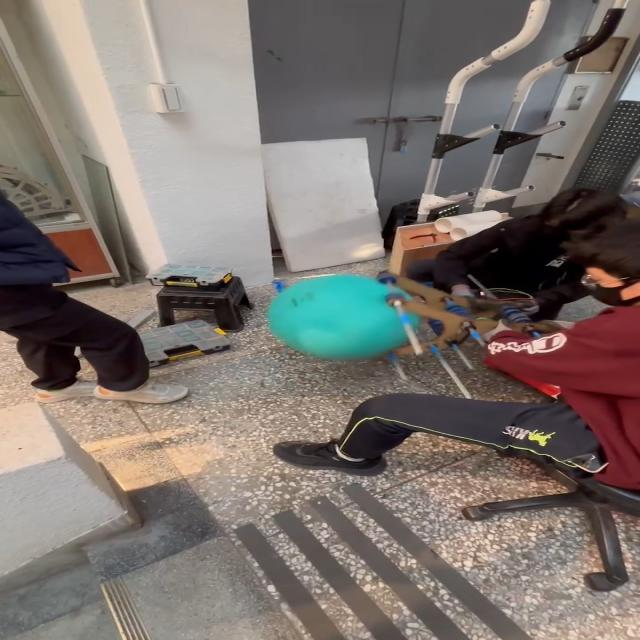ALGAE: (265, 272, 422, 362)
